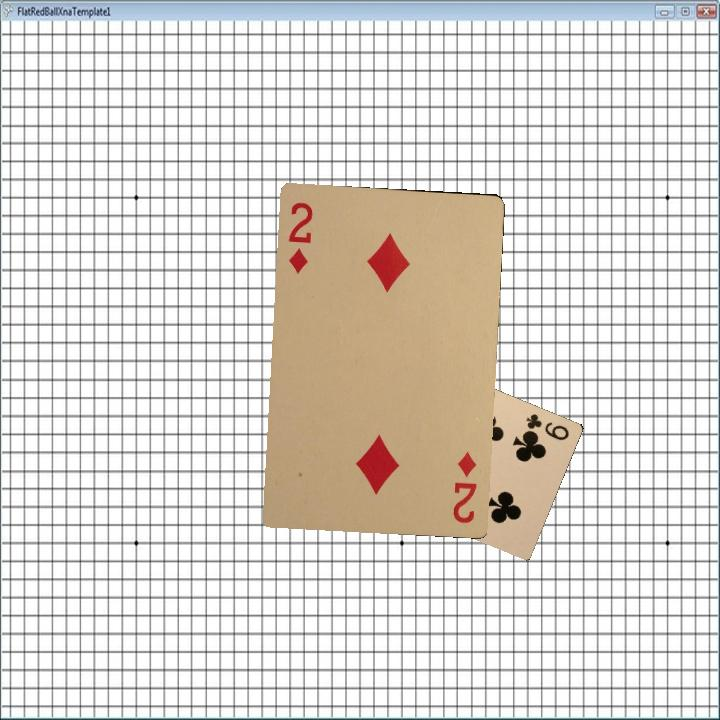2d: (284, 198, 316, 276), (448, 447, 479, 526)
9c: (522, 409, 572, 443)
